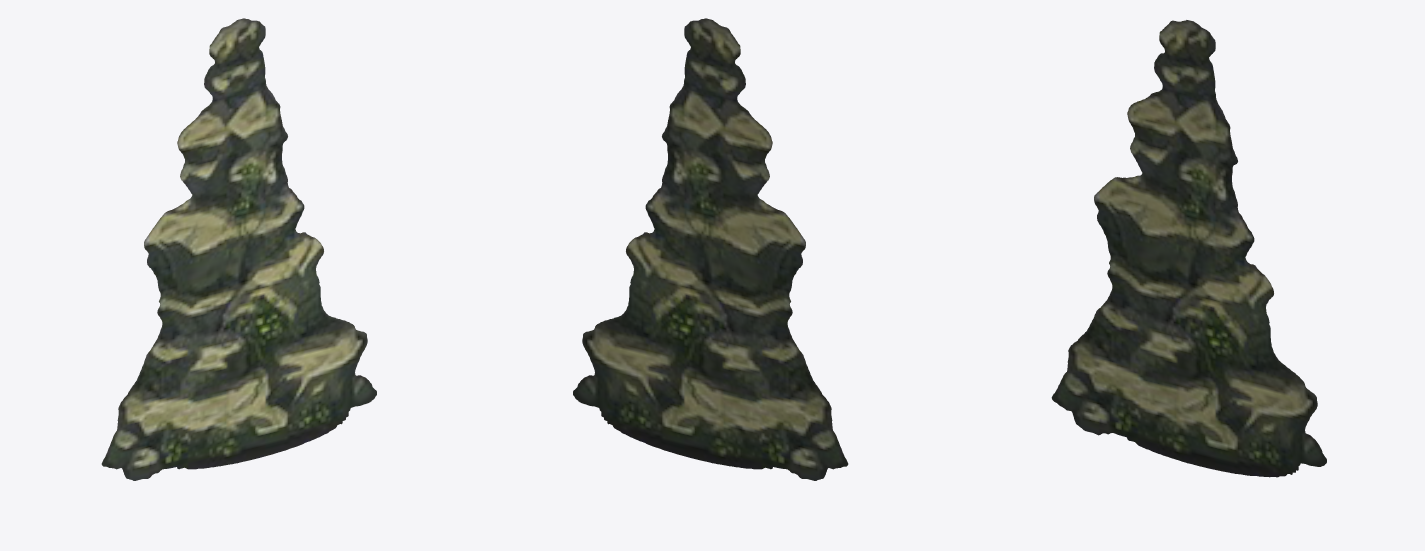
The model's file is Dungeon_Ruolan_L_Sceneobj_05.FBX.
The picture shows the model from 3 angles, left to right: view 1: azimuth 30°, elevation 25°; view 2: azimuth 150°, elevation 25°; view 3: azimuth 330°, elevation 25°; orthographic projection.
Visible parts, largest first — view 1: Dungeon_Ruolan_L_Sceneobj_05; view 2: Dungeon_Ruolan_L_Sceneobj_05; view 3: Dungeon_Ruolan_L_Sceneobj_05.
Boxes of the visible parts, <box> form: Dungeon_Ruolan_L_Sceneobj_05: <box>101,18,376,480</box>; Dungeon_Ruolan_L_Sceneobj_05: <box>573,18,848,480</box>; Dungeon_Ruolan_L_Sceneobj_05: <box>1051,20,1326,477</box>.
Size of the model in its own units: 2.88 by 2.85 by 3.99e-07.
